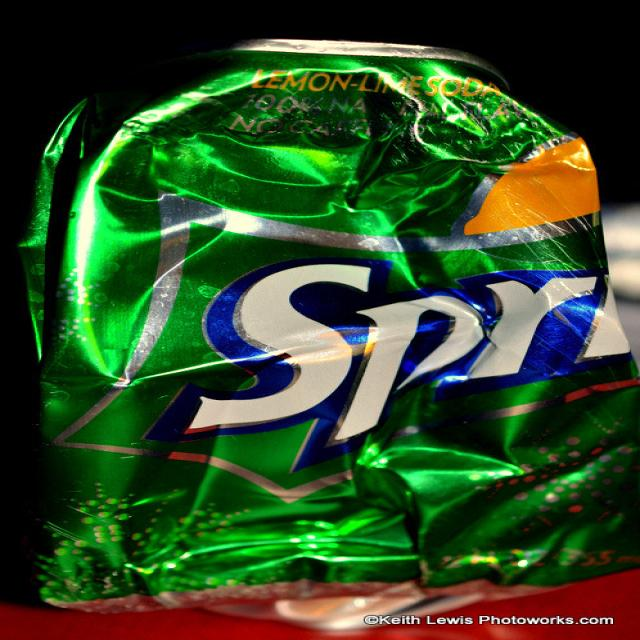aluminum_can: (23, 40, 639, 631)
